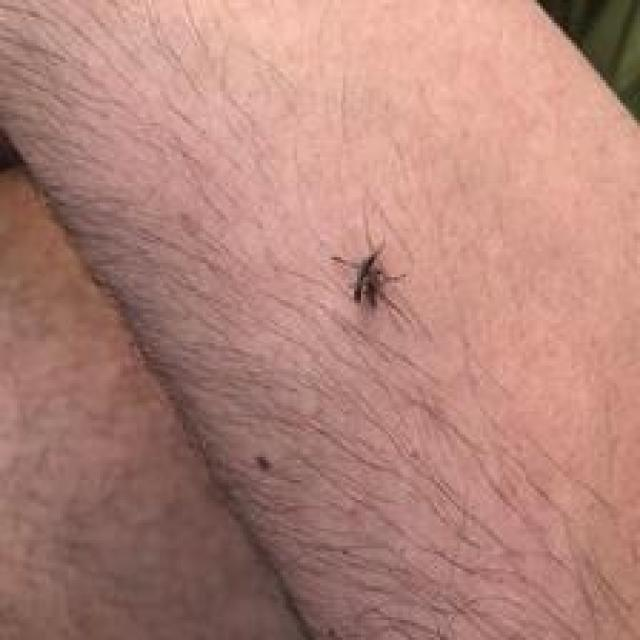Aedes albopictus: (330, 239, 413, 327)
